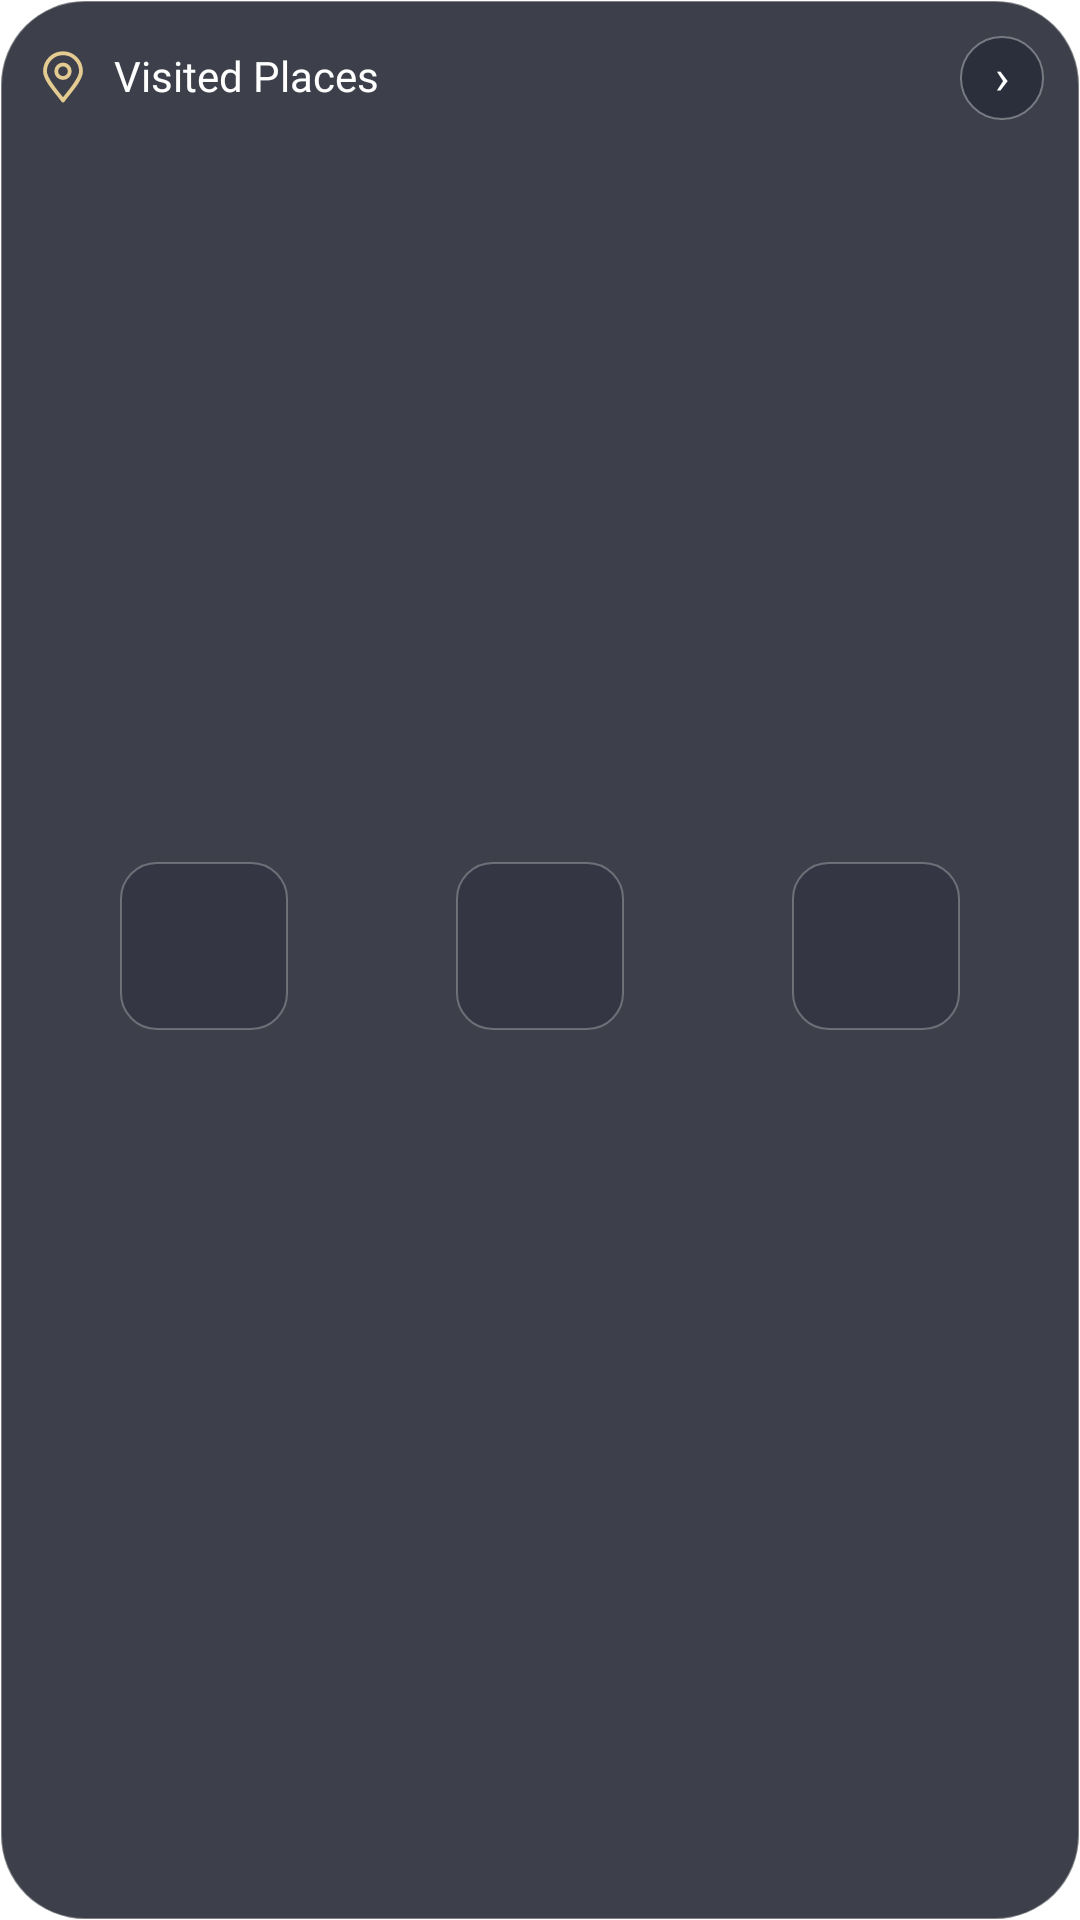

Screen size 1080w x 1920h. Icon name, then its center in pixels as (x=x, y=y):
widget trip gold place: (x=63, y=77)
